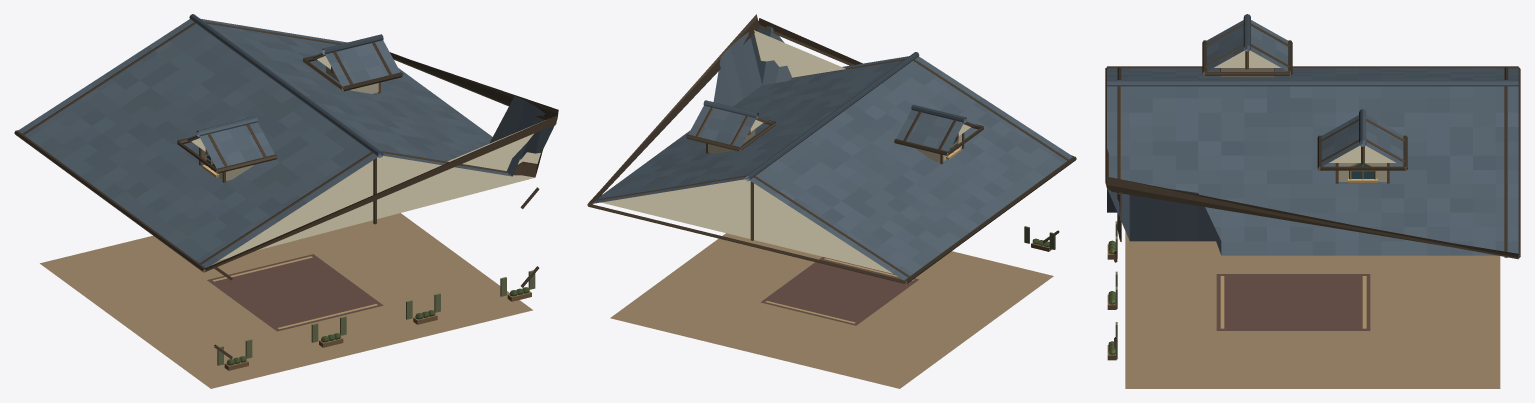
3 renders of one model, left to right at view 1: azimuth 30°, elevation 25°; view 2: azimuth 150°, elevation 25°; view 3: azimuth 270°, elevation 25°, orthographic. The views are drawn at different scales.
Parts seen in each view (by area): view 1: 88f0278892bc7a4c18a09367db6f28abf6921b295880483c2e851e1b5ccf; view 2: 88f0278892bc7a4c18a09367db6f28abf6921b295880483c2e851e1b5ccf; view 3: 88f0278892bc7a4c18a09367db6f28abf6921b295880483c2e851e1b5ccf.
Boxes of the visible parts, x1,y1,x2,y2 form: 88f0278892bc7a4c18a09367db6f28abf6921b295880483c2e851e1b5ccf: [14, 14, 558, 388]; 88f0278892bc7a4c18a09367db6f28abf6921b295880483c2e851e1b5ccf: [587, 14, 1076, 388]; 88f0278892bc7a4c18a09367db6f28abf6921b295880483c2e851e1b5ccf: [1105, 14, 1520, 388].
Size of the model in its own units: 14.02 by 7.78 by 12.97.
6 materials, 1 textured.
